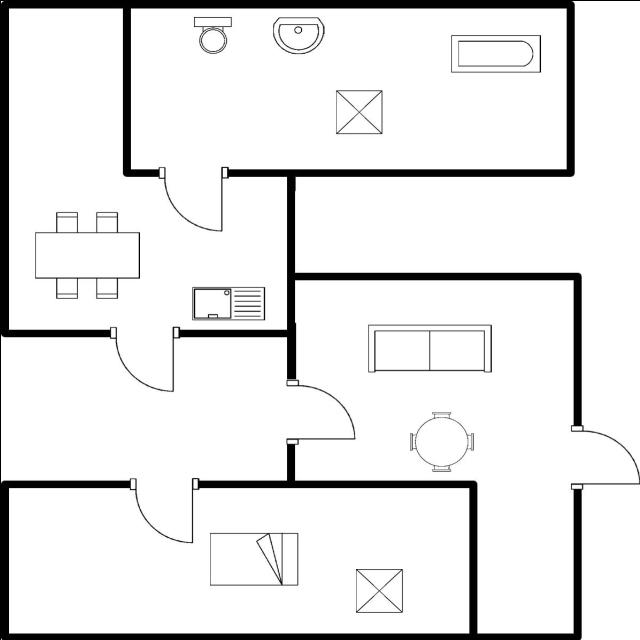bed: (204, 524, 304, 588)
coffee_table: (350, 562, 408, 616), (331, 86, 389, 138)
dining_table: (30, 208, 144, 302)
large_sink: (186, 14, 239, 58)
large_sofa: (363, 318, 498, 376)
round_table: (402, 407, 479, 475)
sink: (186, 282, 270, 324)
small_sink: (266, 13, 329, 58)
tub: (443, 33, 548, 75)
